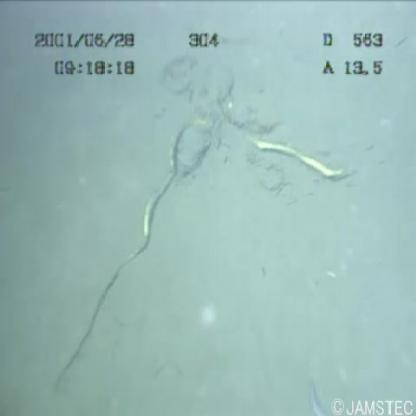Rác: (46, 40, 353, 394)
